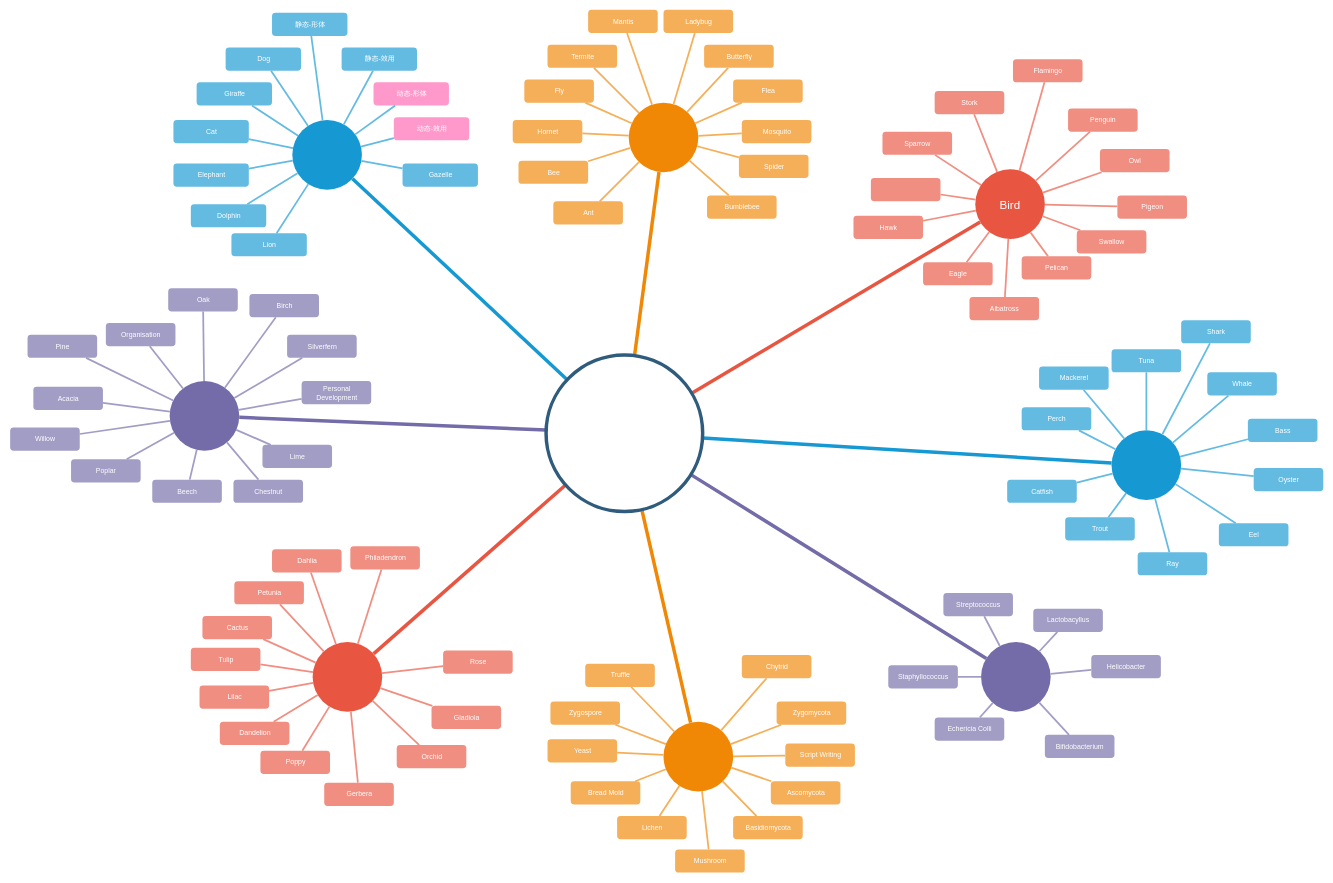
This 1333x883 diagram has some shape labels left out. The centre of each missing label's shape, as x and y in pixels:
Bacteria: point 1015,676
Falcon: point 905,189
Fish: point 1146,465
Flower: point 347,676
Fungi: point 698,756
Tree: point 204,415
内容: point 327,154
形式: point 663,137
研究对象: point 624,433
